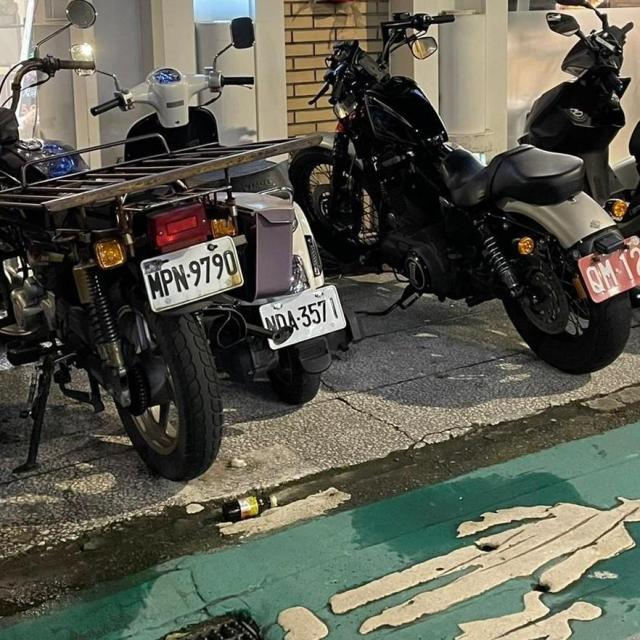RW: (576, 232, 640, 304)
W: (133, 232, 254, 316), (254, 281, 362, 351)
